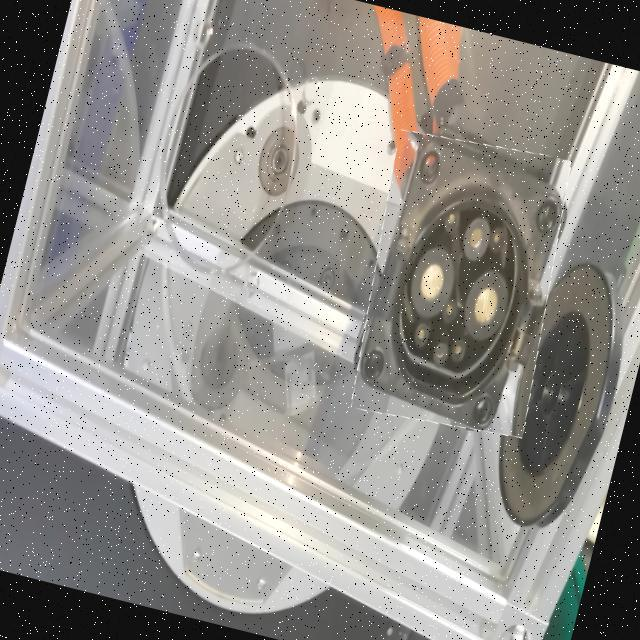GB-T: (373, 142, 542, 435)
